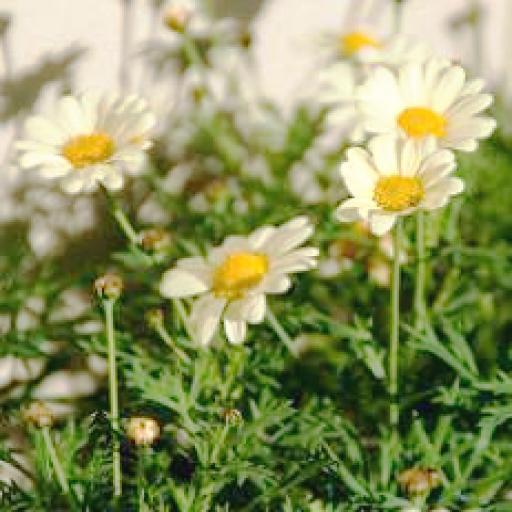daisy: (164, 220, 317, 337), (355, 60, 492, 151), (31, 96, 151, 188), (339, 145, 459, 226)
